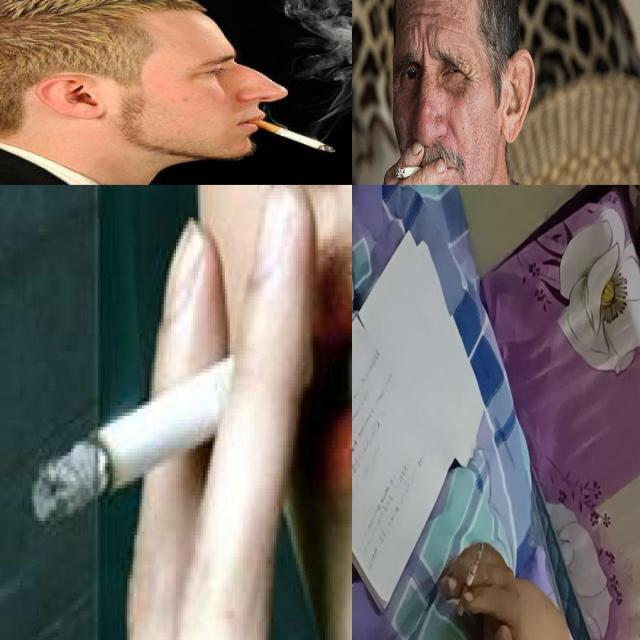cigarette: (32, 330, 314, 530), (242, 116, 342, 158), (456, 540, 484, 617), (394, 162, 426, 182)
